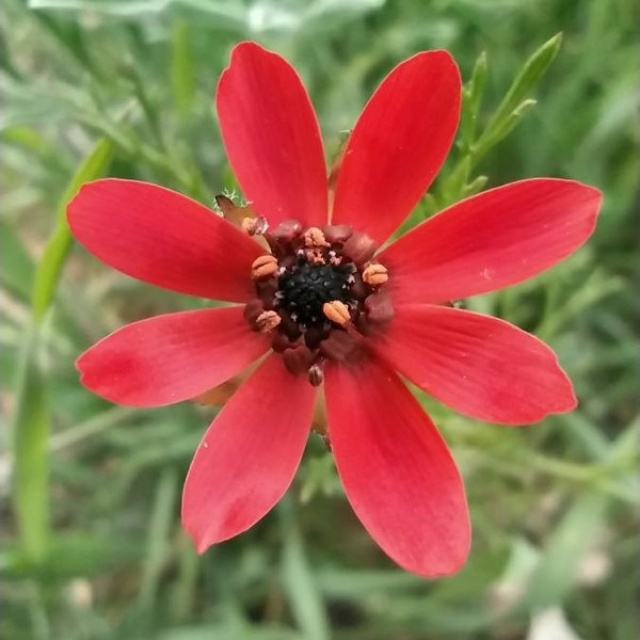obstacle: (35, 15, 598, 620)
